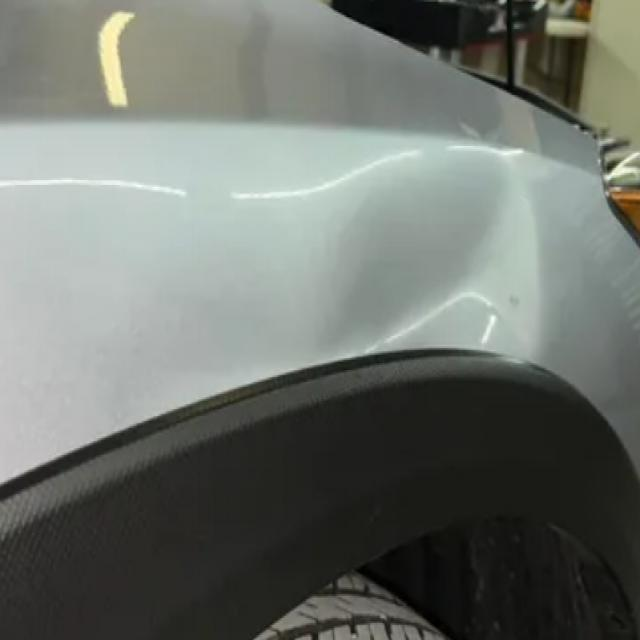dents: (320, 142, 567, 371)
